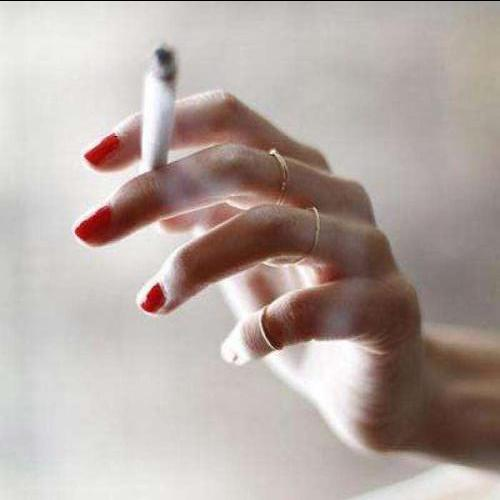Cigarette: (136, 44, 180, 198)
